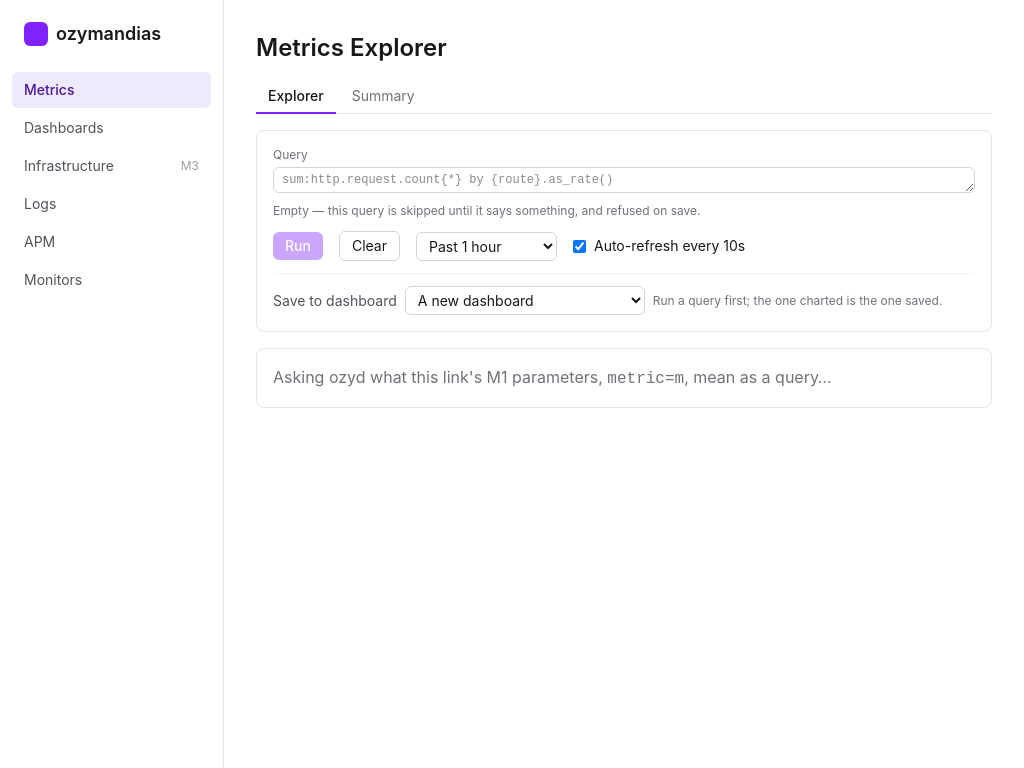
Scenario: MetricsExplorer › keeps what was typed while an M1 link was being translated
Click the dropdown labelled "Query" at (624, 180), box [273,167,975,193]
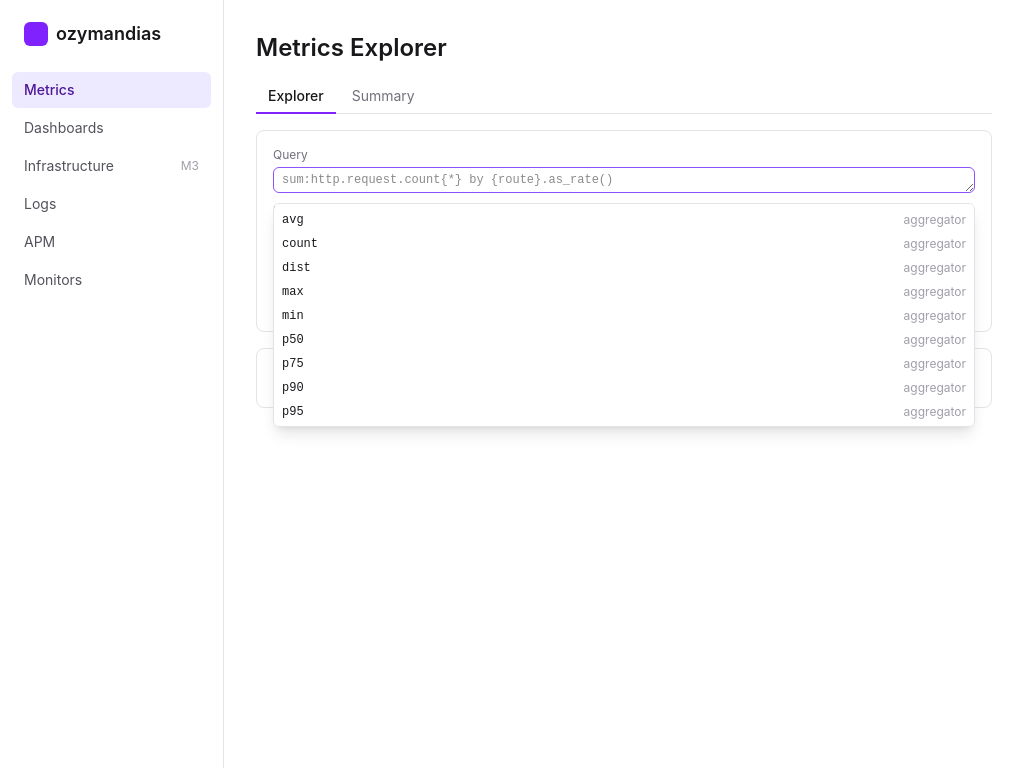
Type keys "sum:other{*}"
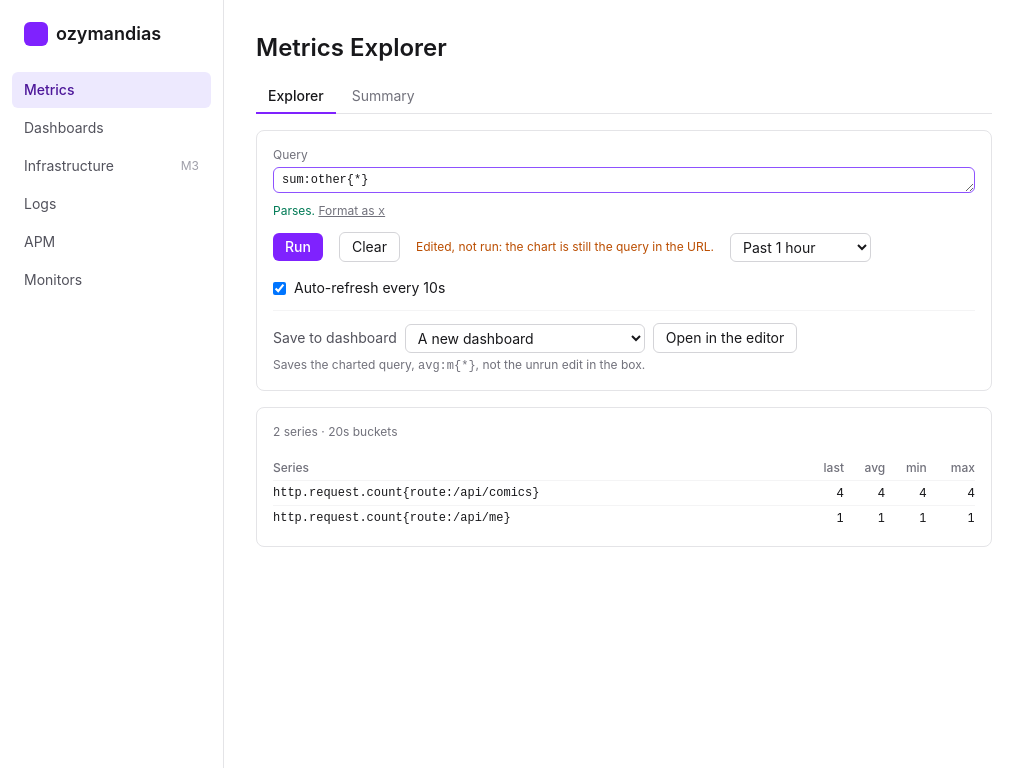
Expected: the dropdown labelled "Query" holds "sum:other{*}", [273,167,975,193]
Expected: the text "Edited, not run: the chart is still the query in the URL." is shown, [416,239,714,255]
